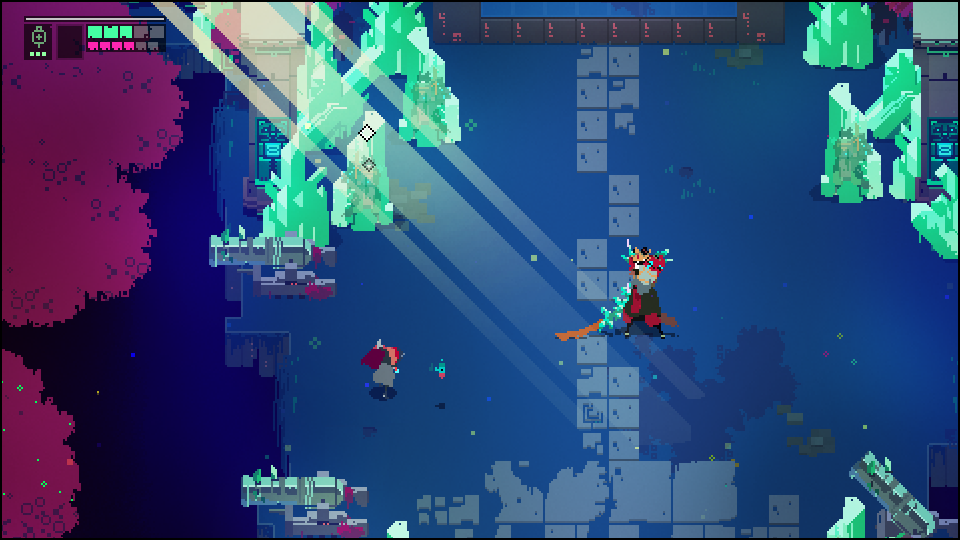hanged_man: (581, 237, 680, 348)
player: (362, 336, 409, 400)
